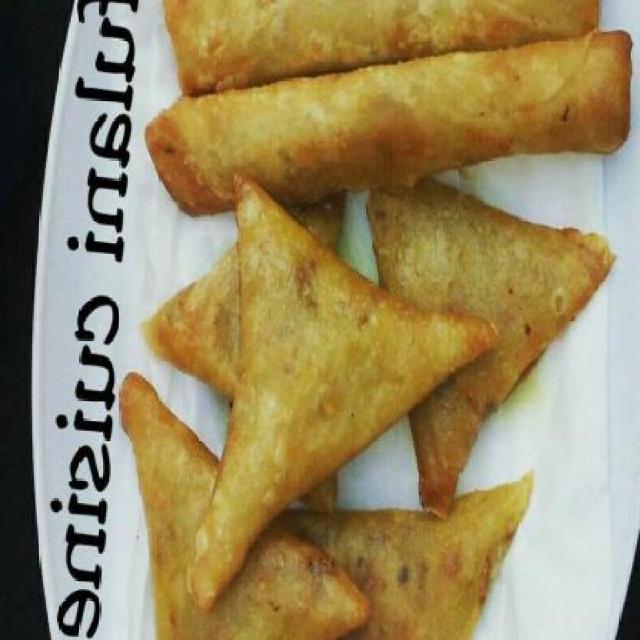samosa: (119, 172, 618, 639)
